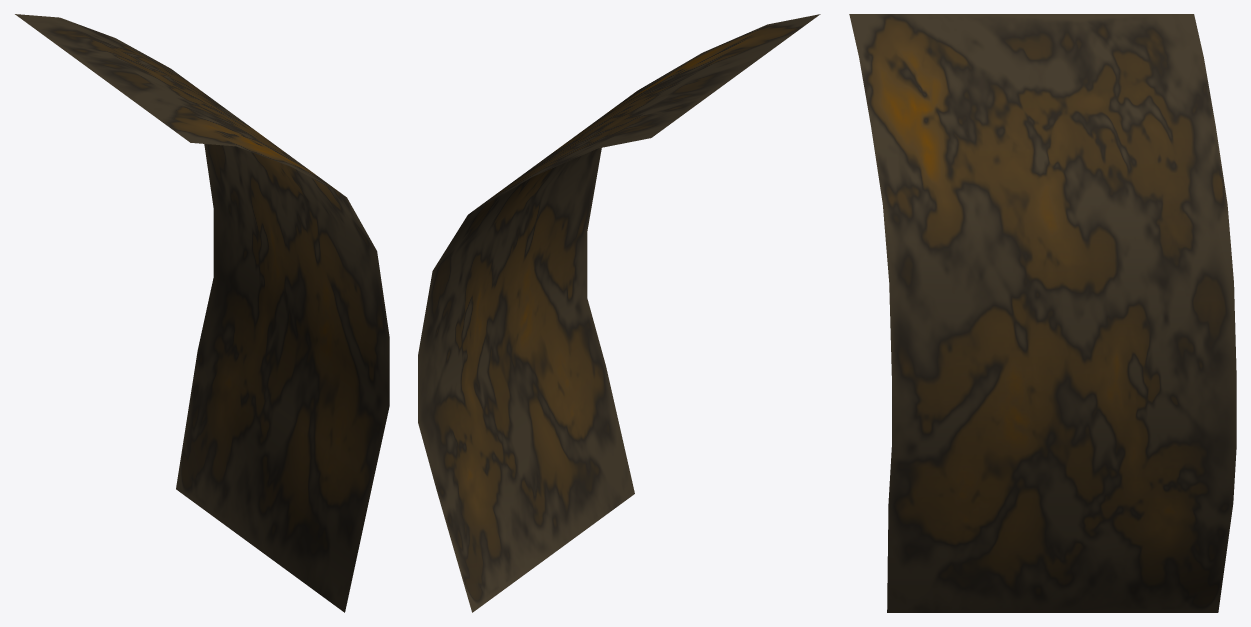
File: Tunnel_3.fbx
3 renders of one model, left to right at view 1: azimuth 30°, elevation 25°; view 2: azimuth 150°, elevation 25°; view 3: azimuth 270°, elevation 25°, orthographic. The views are drawn at different scales.
Parts seen in each view (by area): view 1: CaveTunnel_1__9_.003; view 2: CaveTunnel_1__9_.003; view 3: CaveTunnel_1__9_.003.
Part boxes in pixels (left/top/right/bottom): CaveTunnel_1__9_.003: left=15, top=14, right=389, bottom=612; CaveTunnel_1__9_.003: left=418, top=14, right=820, bottom=612; CaveTunnel_1__9_.003: left=849, top=14, right=1236, bottom=612.
Bounding box in the file's own units: 980 × 2234 × 1520.
